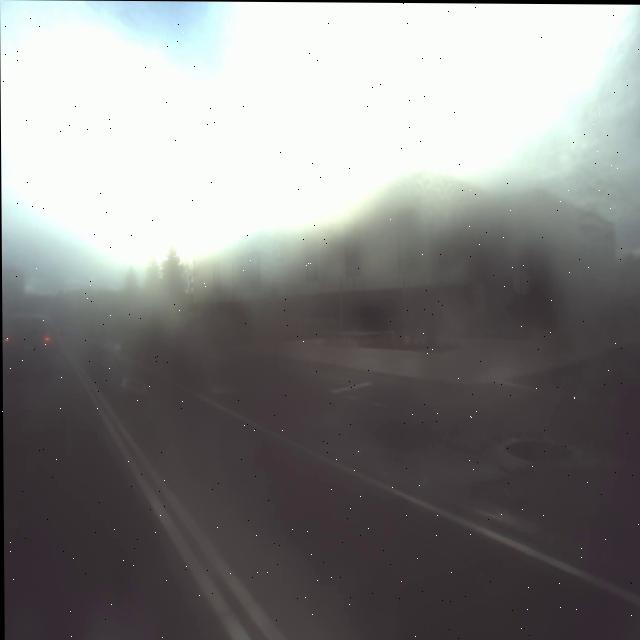car: (2, 302, 54, 378)
